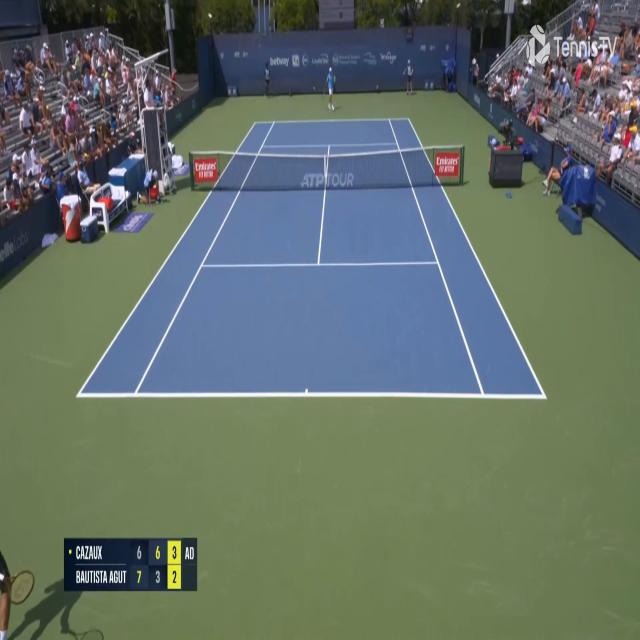tennis-player: (325, 63, 337, 112)
